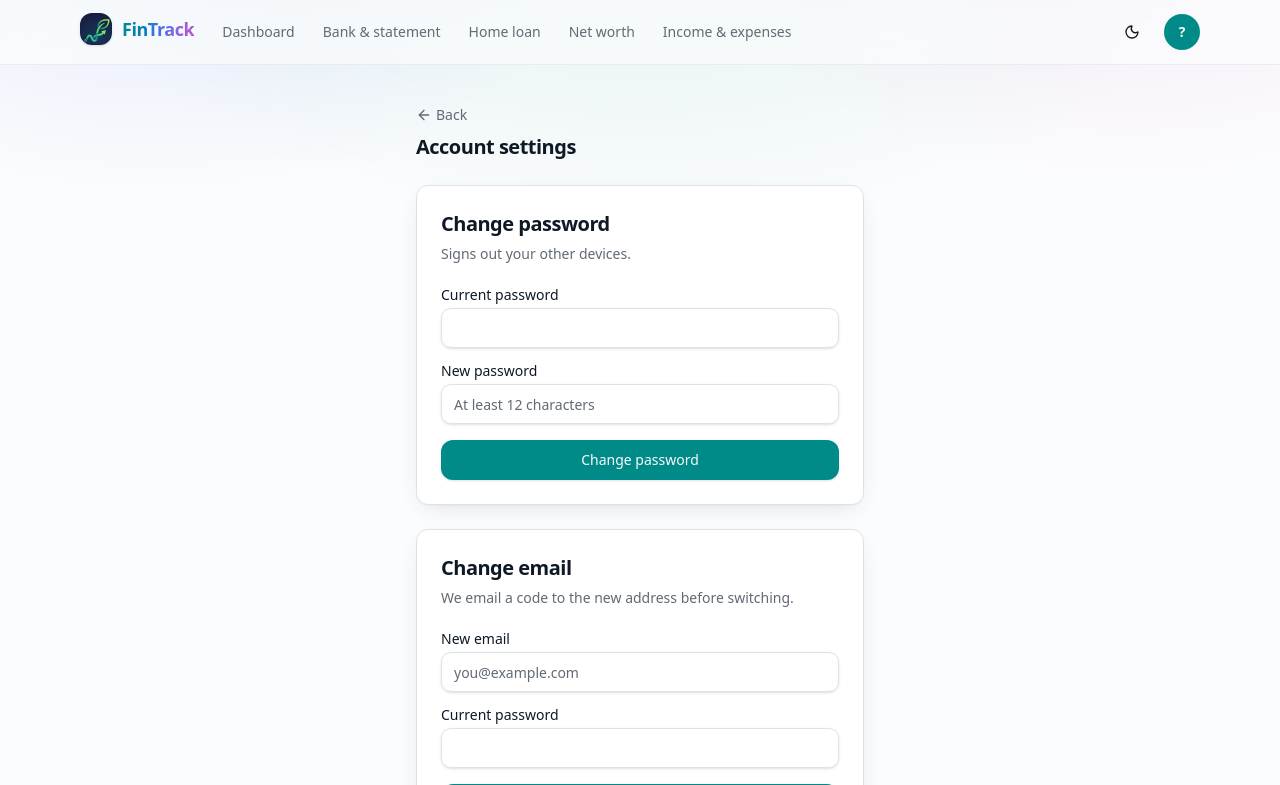
Test case: SettingsPage — change password › shows the incorrect-current-password problem inline
This screenshot has width=1280, height=785.
In the password field labelled "Current password" below "Signs out your other devices.": coordinates (640, 328) [441,308,839,348], type "wrong"
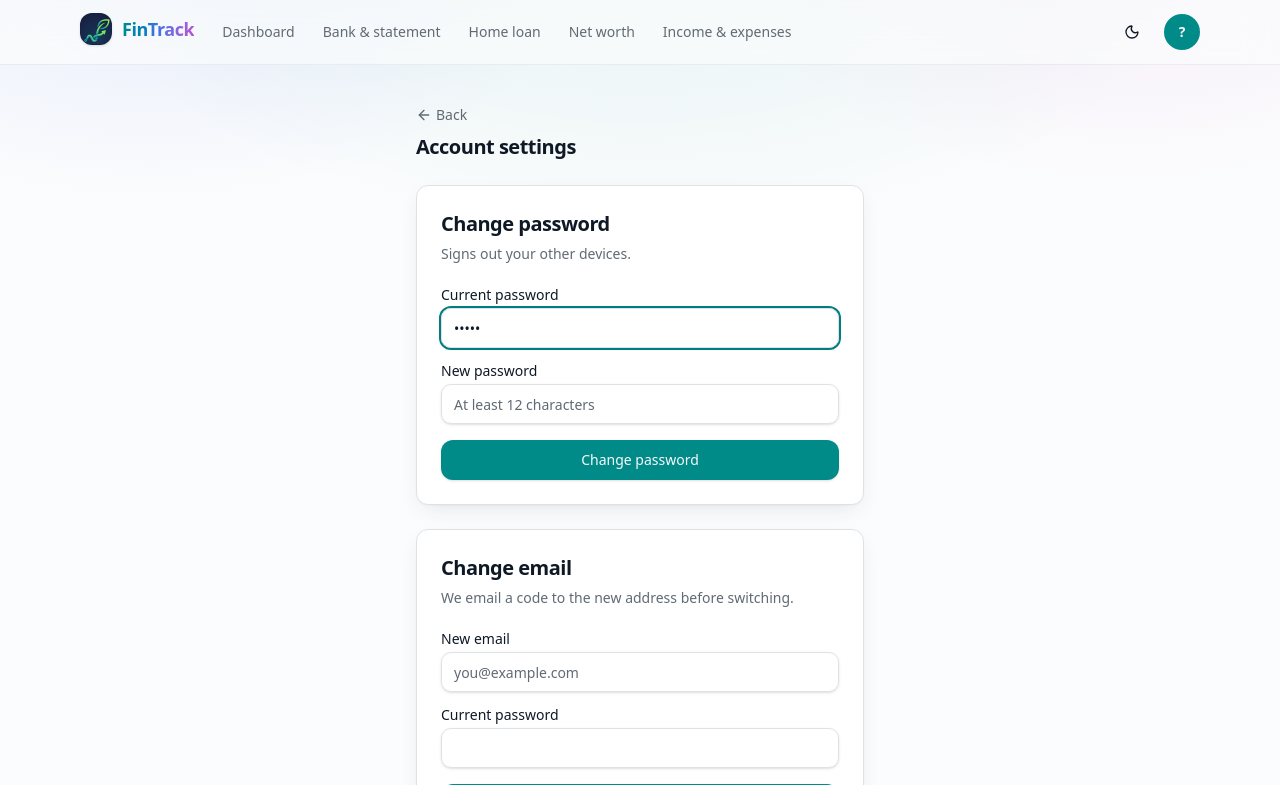
In the password field labelled "New password": coordinates (640, 404) [441,384,839,424], type "a brand new secret here"
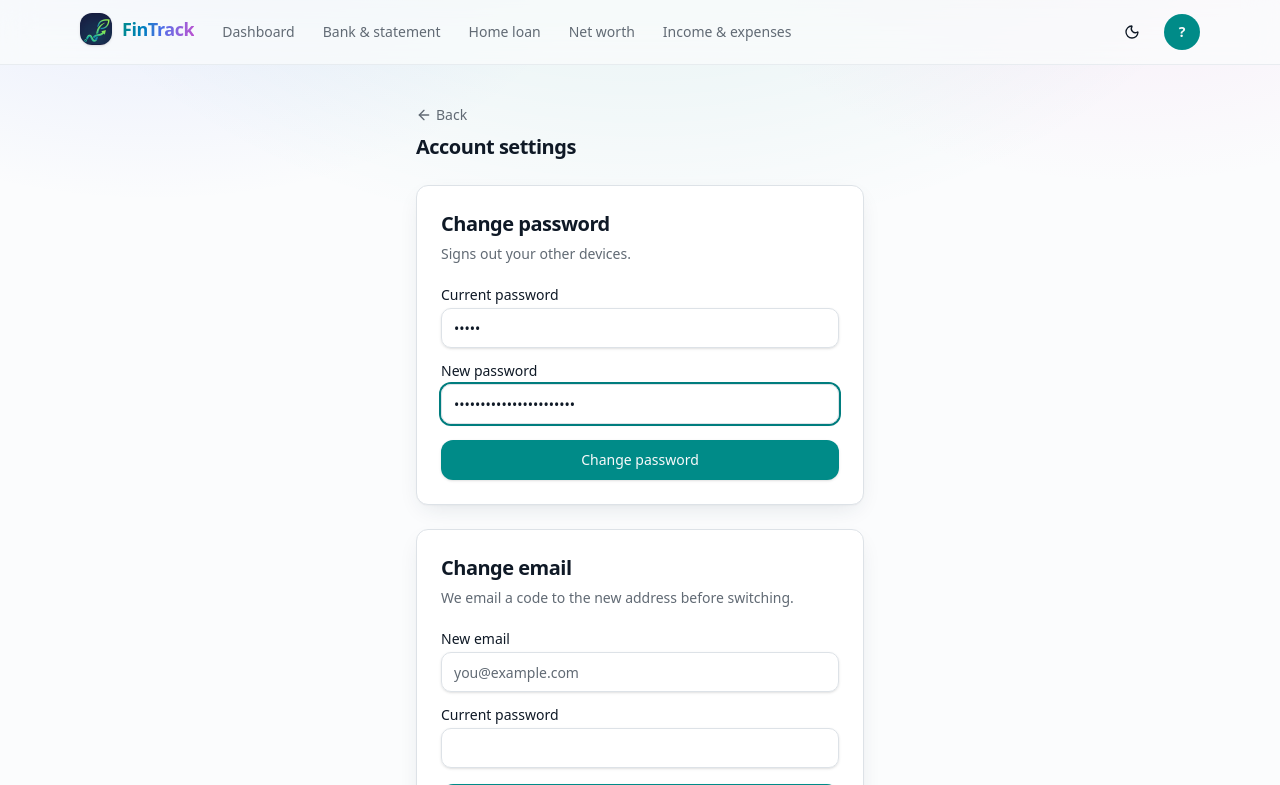
Click the button "Change password": coordinates (640, 460) [441,440,839,480]
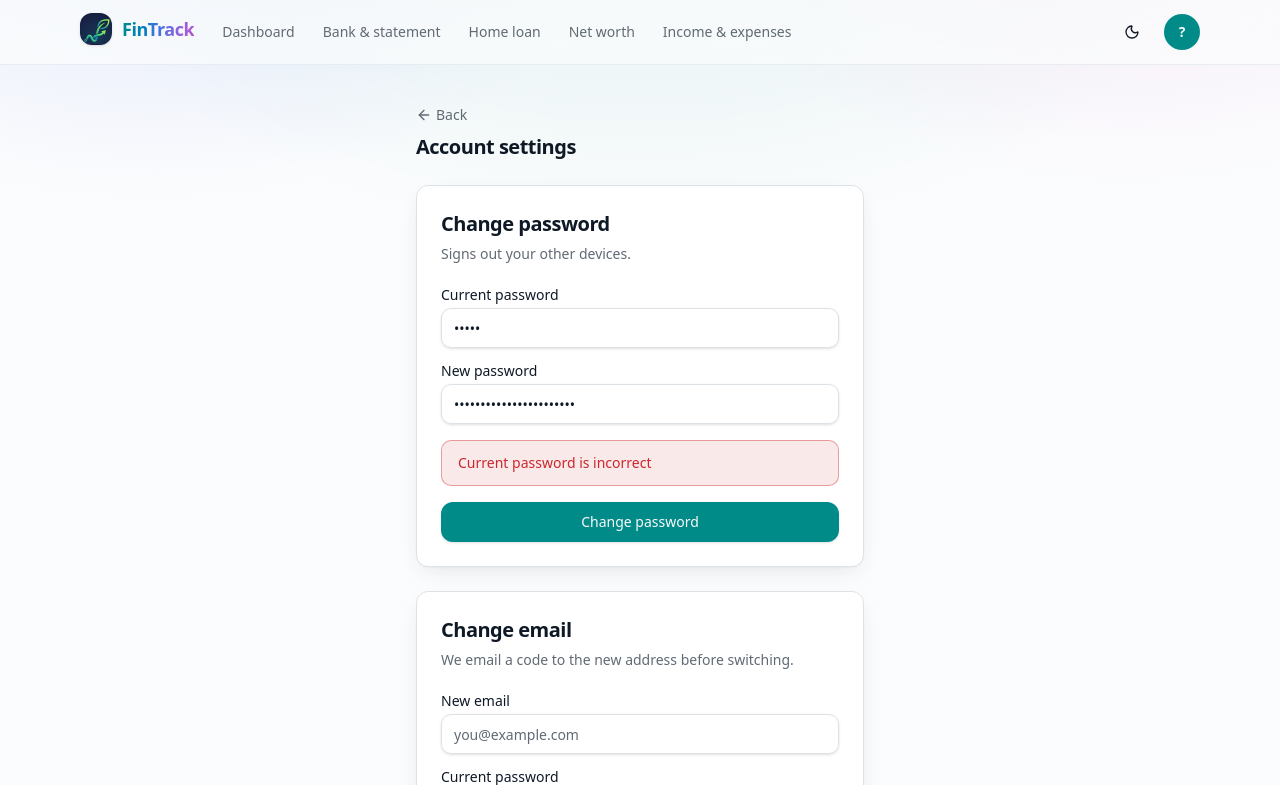
expect the text "Current password is incorrect" is shown: met, box [441,440,839,486]
